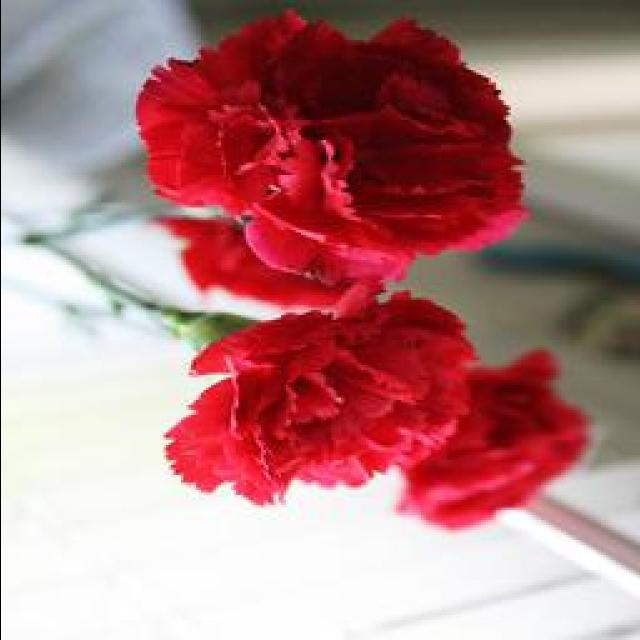carnation: (129, 12, 539, 348)
